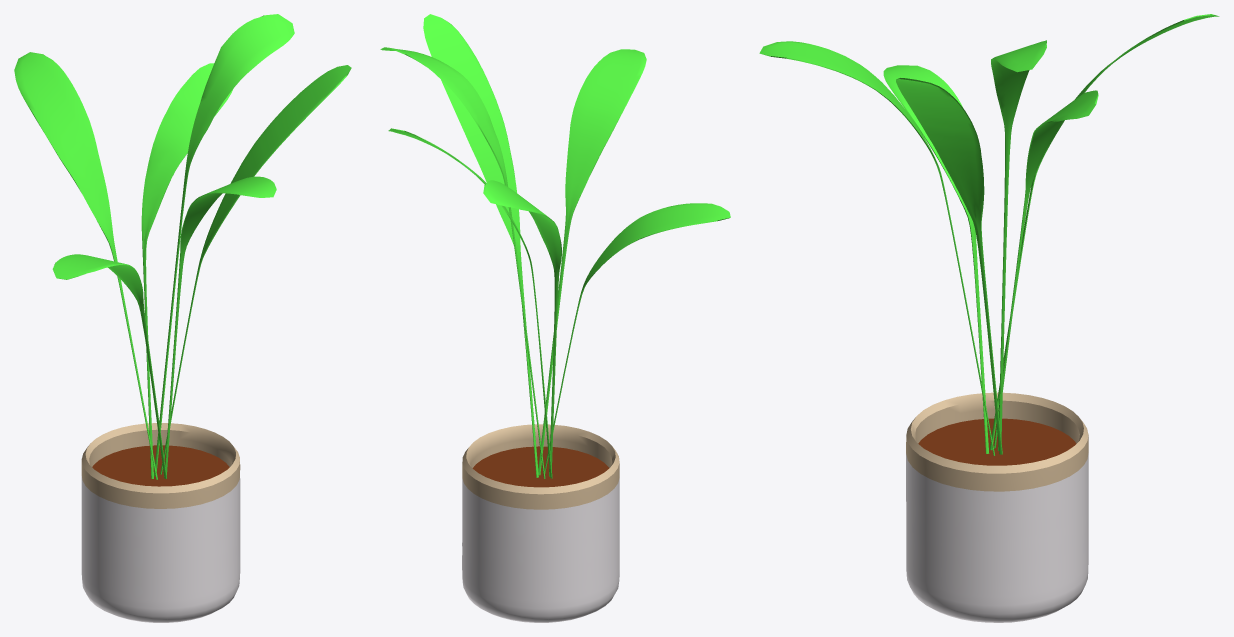
The model's file is flower pot.fbx.
3 renders of one model, left to right at view 1: azimuth 30°, elevation 25°; view 2: azimuth 150°, elevation 25°; view 3: azimuth 270°, elevation 25°, orthographic. The views are drawn at different scales.
Parts seen in each view (by area): view 1: flower pot; view 2: flower pot; view 3: flower pot.
Boxes of the visible parts, bbox=[...] form: flower pot: bbox=[14, 14, 351, 622]; flower pot: bbox=[380, 14, 730, 622]; flower pot: bbox=[759, 14, 1219, 622].
Bounding box in the file's own units: 0.7739 × 1.32 × 0.8937.
